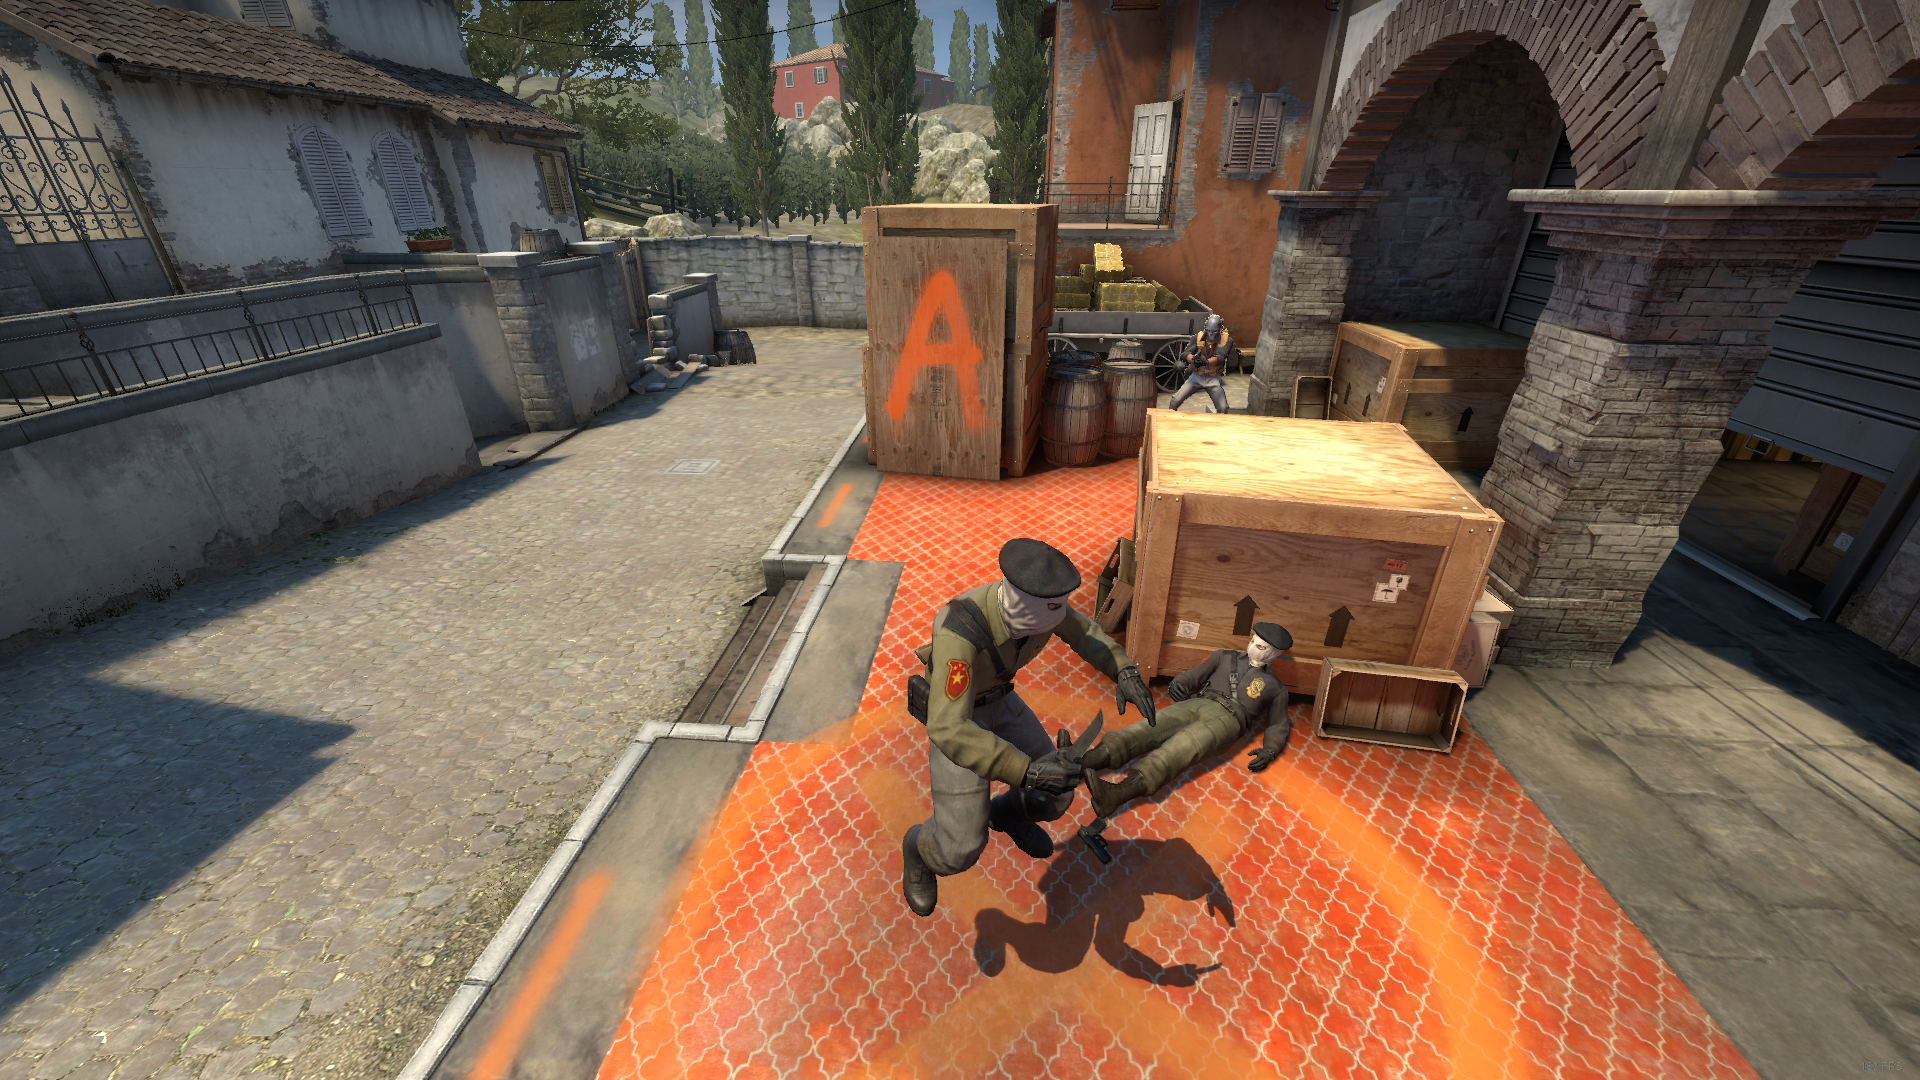t: (902, 538, 1156, 918), (1075, 624, 1291, 810)
